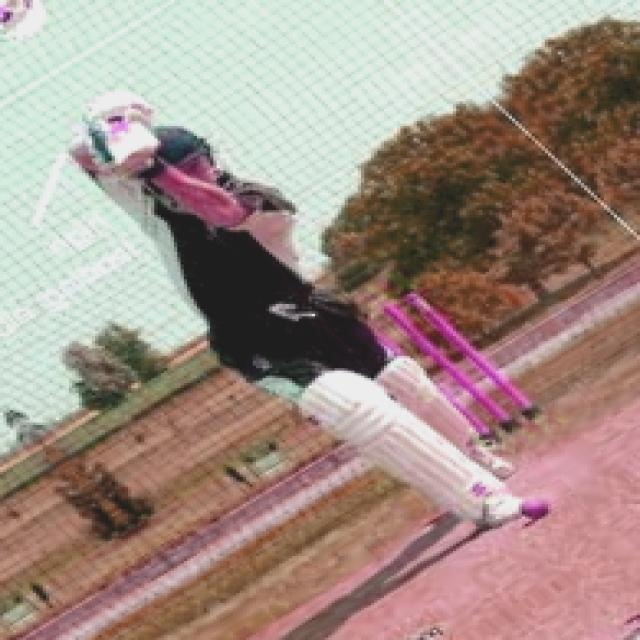bat: (94, 119, 168, 171)
